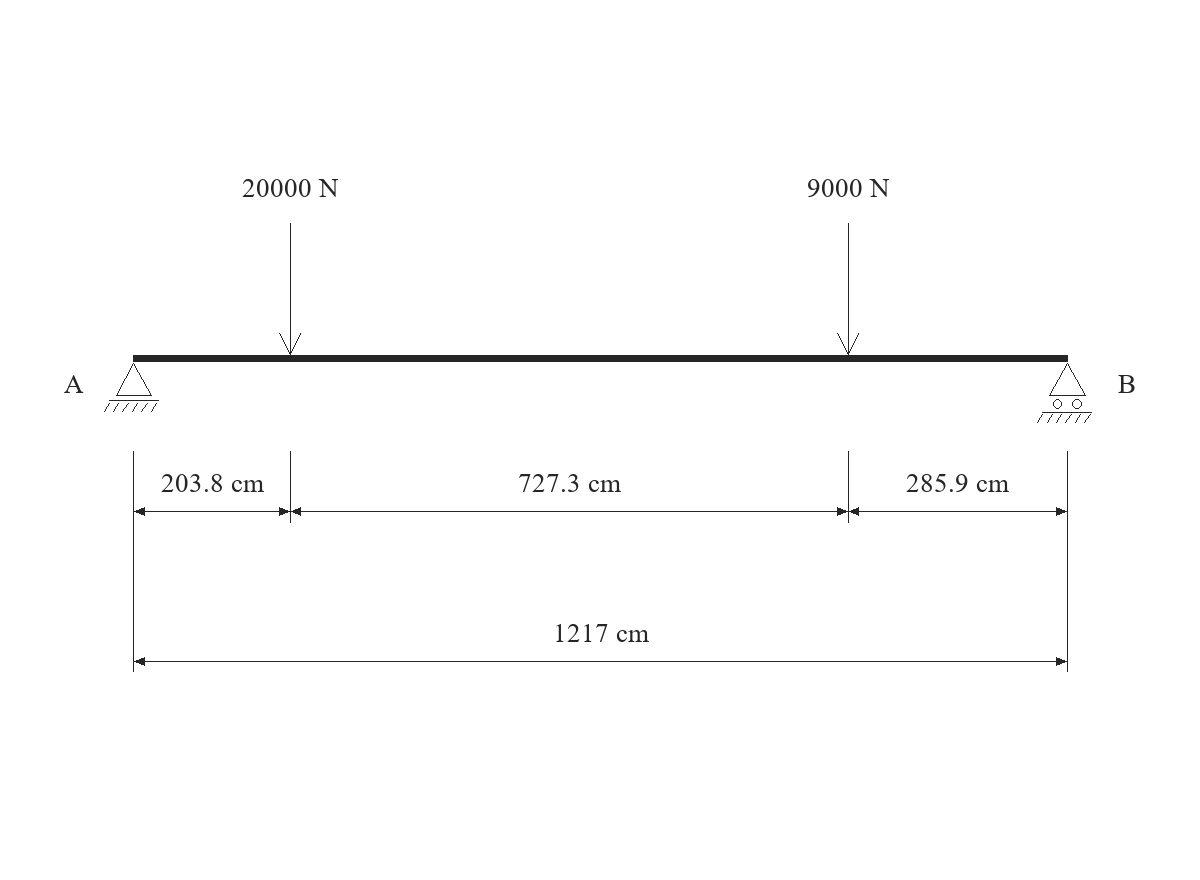pin_support: (104, 363, 159, 412)
point_load: (279, 223, 301, 355), (837, 223, 859, 355)
roller_support: (1037, 363, 1092, 423)
